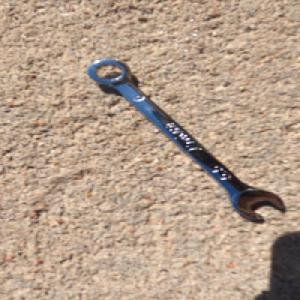Wrench: (84, 57, 289, 223)
